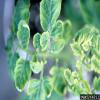Tomato leaf yellow virus: (39, 1, 64, 31), (13, 58, 32, 93), (27, 76, 53, 98), (17, 20, 30, 51), (49, 16, 65, 41), (49, 39, 69, 55), (31, 32, 43, 55), (64, 66, 76, 88), (39, 31, 51, 52), (29, 58, 44, 74), (70, 42, 83, 57)
